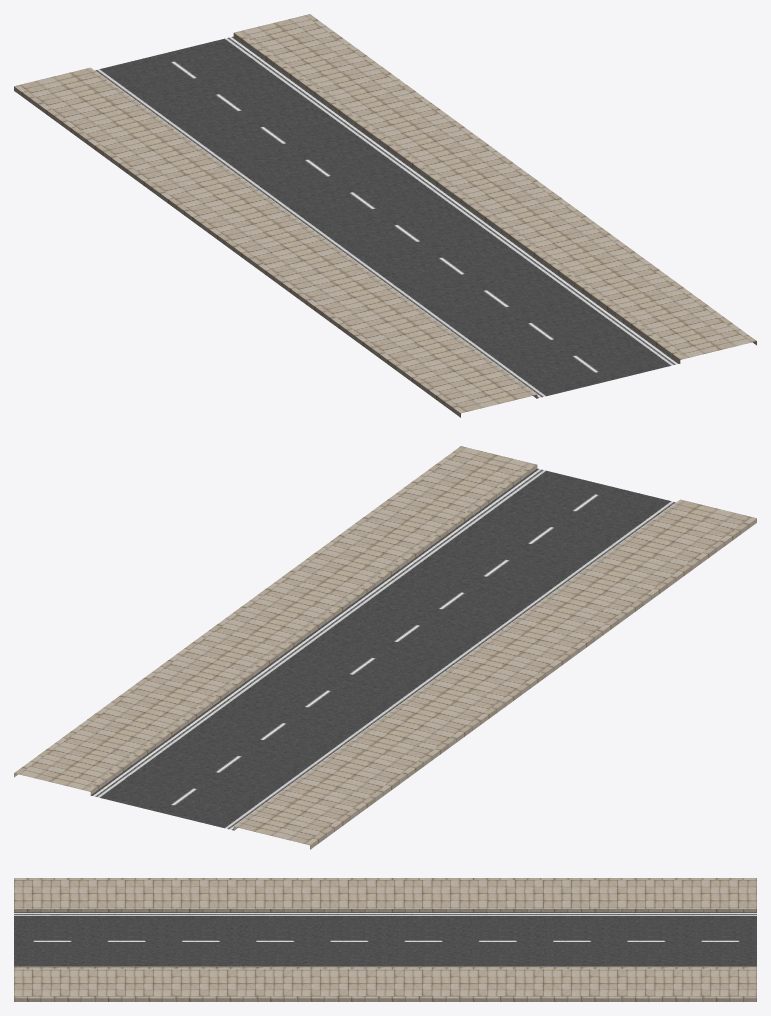
File: Street1Lane50m.fbx
3 views of the same model, one above another, from view 1: azimuth 30°, elevation 25°; view 2: azimuth 150°, elevation 25°; view 3: azimuth 270°, elevation 25° (orthographic). The views are drawn at different scales.
Parts seen in each view (by area): view 1: Street1Lane50m__2_; view 2: Street1Lane50m__2_; view 3: Street1Lane50m__2_.
Part boxes in pixels (x1,y1,x2,y2): Street1Lane50m__2_: (14,14,756,417); Street1Lane50m__2_: (14,446,756,849); Street1Lane50m__2_: (14,878,756,1001).
Bounding box in the file's own units: 2070 × 30.34 × 5410.
